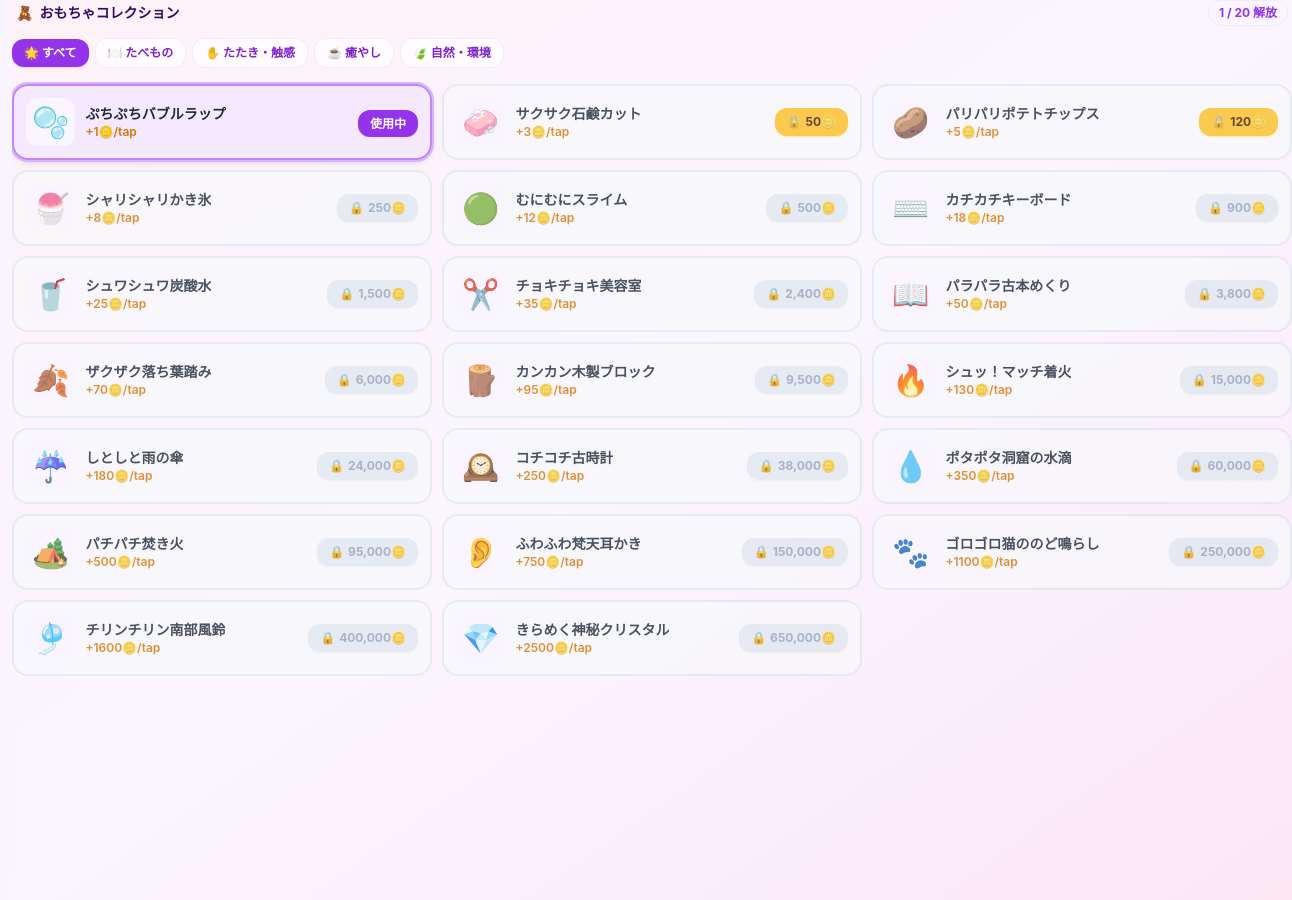
Test: AsmrToySelector component › filters toys by category
Check: the text "ぷちぷちバブルラップ" is shown, box left=85, top=104, right=226, bottom=124
Check: the text "パリパリポテトチップス" is shown, box left=945, top=104, right=1099, bottom=124
// Click "たべもの" filter tab
Click the button "🍽️ たべもの": {"x": 140, "y": 53} left=94, top=38, right=186, bottom=68
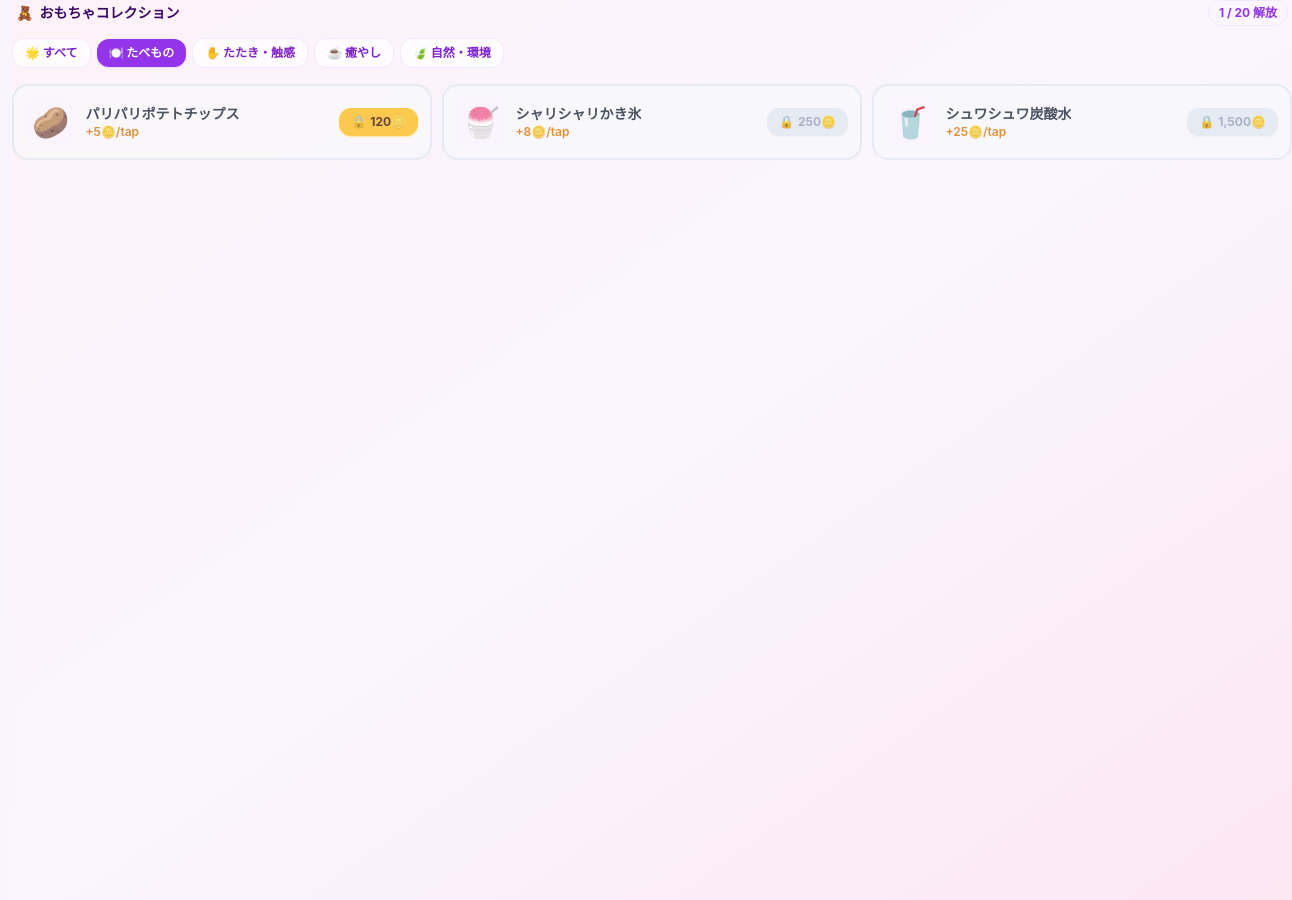
Check: the text "パリパリポテトチップス" is shown, box left=85, top=104, right=239, bottom=124
Check: the text "ぷちぷちバブルラップ" is gone
